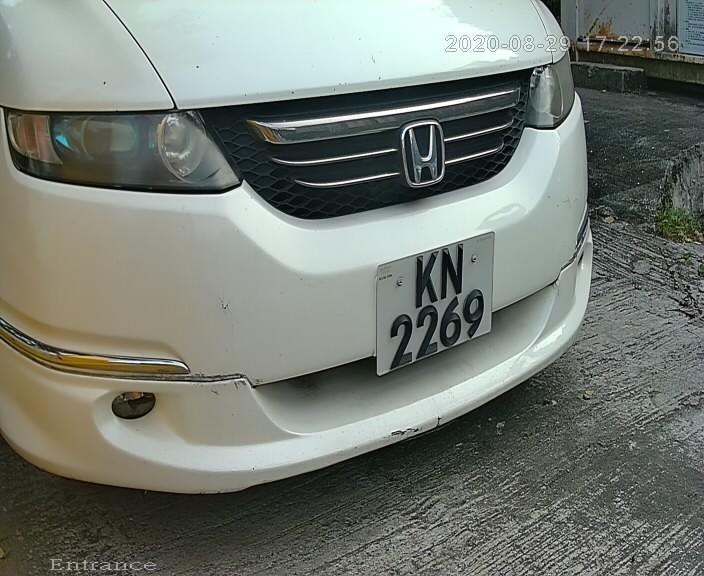License Plate: (371, 224, 500, 384)
